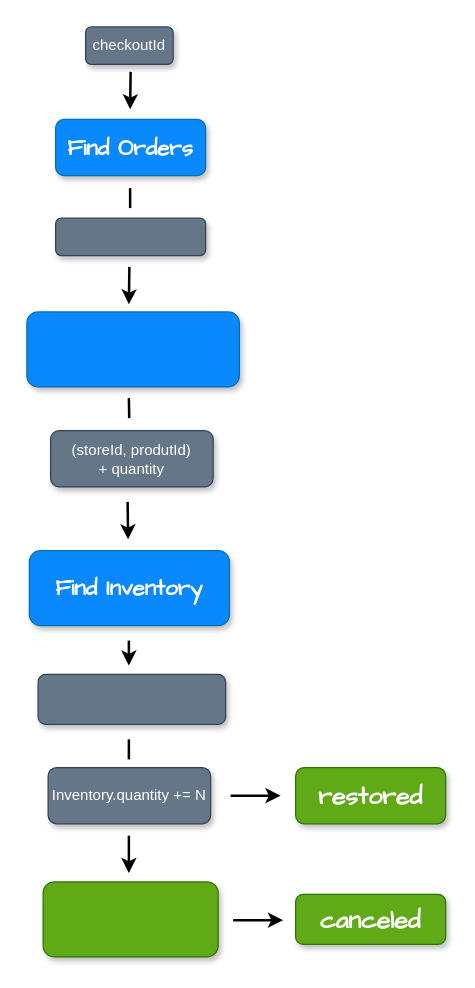
The diagram is 475 pixels wide and 988 high, and some of its shapes have lost their labels. Here are the shapes that lost their labels. From the top down, the centre of each, then its label:
At (x=131, y=238): "extract OrderIds".
At (x=134, y=351): "Find OrderItems".
At (x=132, y=700): "Create stockMovement".
At (x=131, y=921): "Orders.status".
